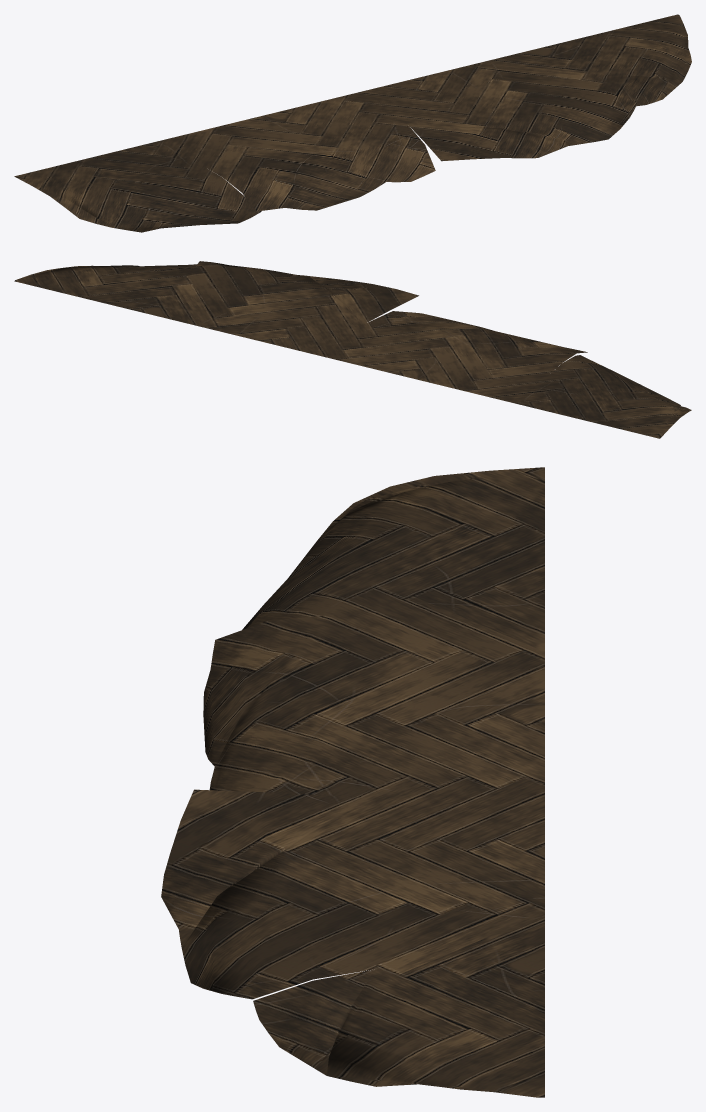
The model's file is SM_CeilingD.FBX.
3 views of the same model, one above another, from view 1: azimuth 30°, elevation 25°; view 2: azimuth 150°, elevation 25°; view 3: azimuth 270°, elevation 25° (orthographic). The views are drawn at different scales.
Parts seen in each view (by area): view 1: SM_CeilingD; view 2: SM_CeilingD; view 3: SM_CeilingD.
Boxes of the visible parts, x1,y1,x2,y2 form: SM_CeilingD: (14,14,691,232); SM_CeilingD: (14,261,691,438); SM_CeilingD: (161,467,544,1097).
Bounding box in the file's own units: 400 × 14.53 × 103.
